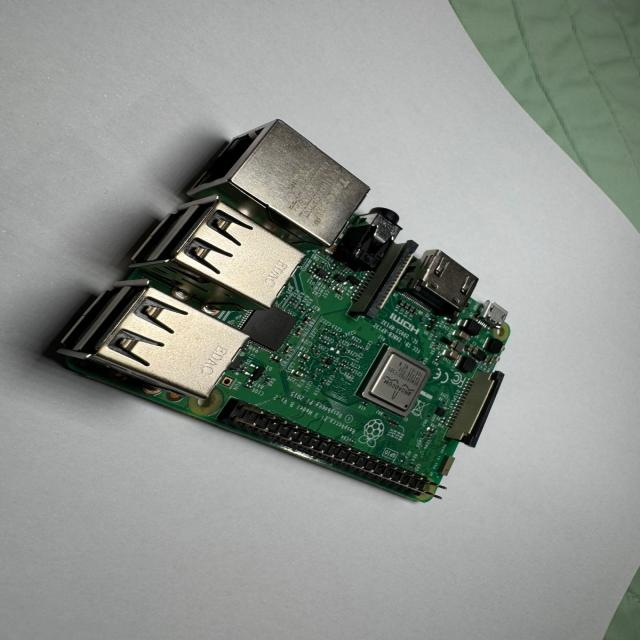CPU: (358, 346, 433, 418)
Ethernet: (185, 120, 370, 250)
GPIO: (139, 396, 439, 503)
HDMI: (416, 249, 479, 320)
RAM-3: (243, 307, 298, 352)
Raspberry: (46, 120, 510, 504)
